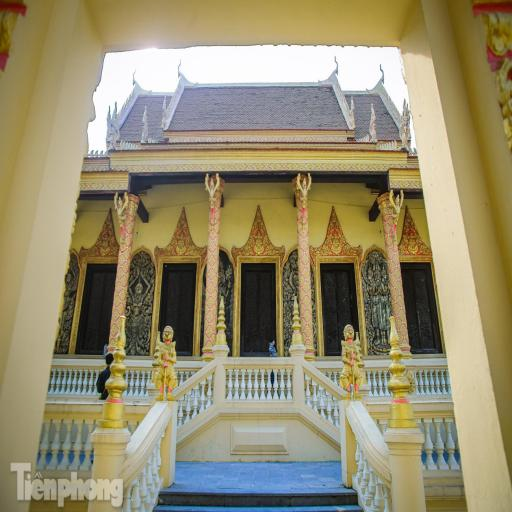hoa: (392, 303, 400, 314), (206, 326, 213, 338), (389, 260, 395, 274), (390, 274, 396, 288), (323, 162, 332, 171), (306, 163, 316, 171), (340, 164, 350, 172), (303, 280, 309, 293), (300, 302, 306, 315), (207, 297, 214, 308), (211, 304, 218, 315), (301, 254, 308, 265), (252, 164, 264, 170), (124, 248, 130, 260), (209, 254, 215, 266), (213, 261, 219, 273), (208, 282, 214, 294), (212, 274, 218, 286), (304, 295, 310, 307), (305, 325, 311, 337), (167, 165, 177, 172), (218, 164, 228, 171), (270, 163, 280, 170), (119, 254, 126, 264), (301, 240, 308, 250), (391, 290, 398, 300), (399, 325, 406, 335), (374, 164, 384, 171), (183, 165, 194, 171), (125, 235, 131, 246), (121, 275, 127, 286), (114, 295, 120, 306), (118, 303, 124, 314), (116, 316, 122, 327), (111, 324, 117, 335), (214, 210, 220, 221), (214, 236, 220, 247), (207, 311, 213, 322), (302, 267, 308, 278), (304, 310, 310, 321), (395, 282, 401, 293), (399, 310, 405, 321), (395, 318, 401, 329), (356, 164, 367, 170), (400, 180, 408, 188), (236, 164, 246, 170), (127, 224, 133, 234), (118, 268, 124, 278), (120, 290, 126, 300), (116, 282, 122, 292), (113, 310, 119, 320), (208, 269, 214, 279), (203, 334, 208, 346), (300, 228, 306, 238), (300, 288, 305, 300), (386, 236, 392, 246), (395, 268, 401, 278), (288, 164, 298, 170), (93, 183, 101, 190), (108, 183, 116, 190), (116, 165, 124, 172), (151, 165, 159, 172), (416, 181, 424, 188), (212, 290, 217, 301), (211, 334, 216, 345), (202, 165, 211, 171), (123, 262, 129, 271), (210, 242, 216, 251), (388, 216, 394, 225), (393, 256, 399, 265), (397, 333, 403, 342), (204, 318, 208, 331), (399, 294, 403, 307), (123, 298, 128, 308), (210, 229, 215, 239), (214, 250, 219, 260), (85, 183, 92, 190), (134, 166, 142, 172), (216, 196, 220, 208), (206, 251, 212, 259), (206, 260, 210, 272), (212, 318, 216, 330), (206, 340, 212, 348), (300, 275, 304, 287), (308, 274, 312, 286), (301, 317, 305, 329), (309, 335, 314, 344), (388, 250, 393, 259), (297, 209, 301, 220), (305, 222, 309, 233), (298, 248, 302, 259), (299, 261, 303, 272), (308, 289, 312, 300), (111, 304, 116, 312), (215, 222, 219, 232), (206, 276, 210, 286), (205, 304, 209, 314), (297, 198, 301, 208), (297, 224, 302, 232), (306, 235, 310, 245), (298, 235, 302, 245), (307, 262, 311, 272), (310, 318, 314, 328), (404, 318, 408, 328), (206, 290, 209, 302), (302, 334, 306, 343), (305, 342, 311, 348), (110, 339, 115, 346), (109, 332, 112, 343), (110, 319, 114, 327), (305, 211, 309, 219), (306, 249, 310, 257), (386, 225, 390, 233), (128, 216, 133, 222), (402, 339, 406, 346), (406, 333, 409, 342), (131, 222, 135, 228), (384, 214, 388, 220), (310, 303, 312, 314), (114, 291, 117, 298), (128, 257, 130, 266), (117, 262, 119, 270)
lua: (231, 236, 254, 256), (266, 236, 284, 258), (342, 236, 360, 256), (253, 206, 265, 231), (309, 242, 329, 256), (418, 236, 431, 256), (405, 210, 416, 233), (329, 211, 341, 231), (399, 235, 407, 256)
ran: (106, 101, 118, 148), (401, 101, 413, 147), (140, 105, 148, 142), (371, 104, 376, 140), (351, 96, 356, 129), (162, 96, 166, 130)
than: (128, 267, 151, 355), (366, 261, 390, 345), (342, 322, 364, 400), (157, 324, 177, 402), (61, 265, 76, 334), (205, 172, 221, 224), (296, 172, 312, 220), (113, 192, 128, 240), (388, 189, 404, 234), (219, 259, 232, 303), (289, 269, 300, 300), (330, 232, 342, 254), (254, 231, 265, 254), (176, 232, 186, 256), (408, 233, 418, 255), (102, 234, 110, 256)
